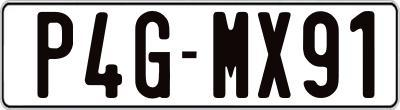1: (349, 11, 377, 104)
4: (84, 10, 125, 96)
9: (301, 8, 341, 101)
G: (133, 8, 174, 99)
M: (213, 12, 251, 100)
P: (37, 10, 79, 96)
X: (258, 12, 293, 98)
